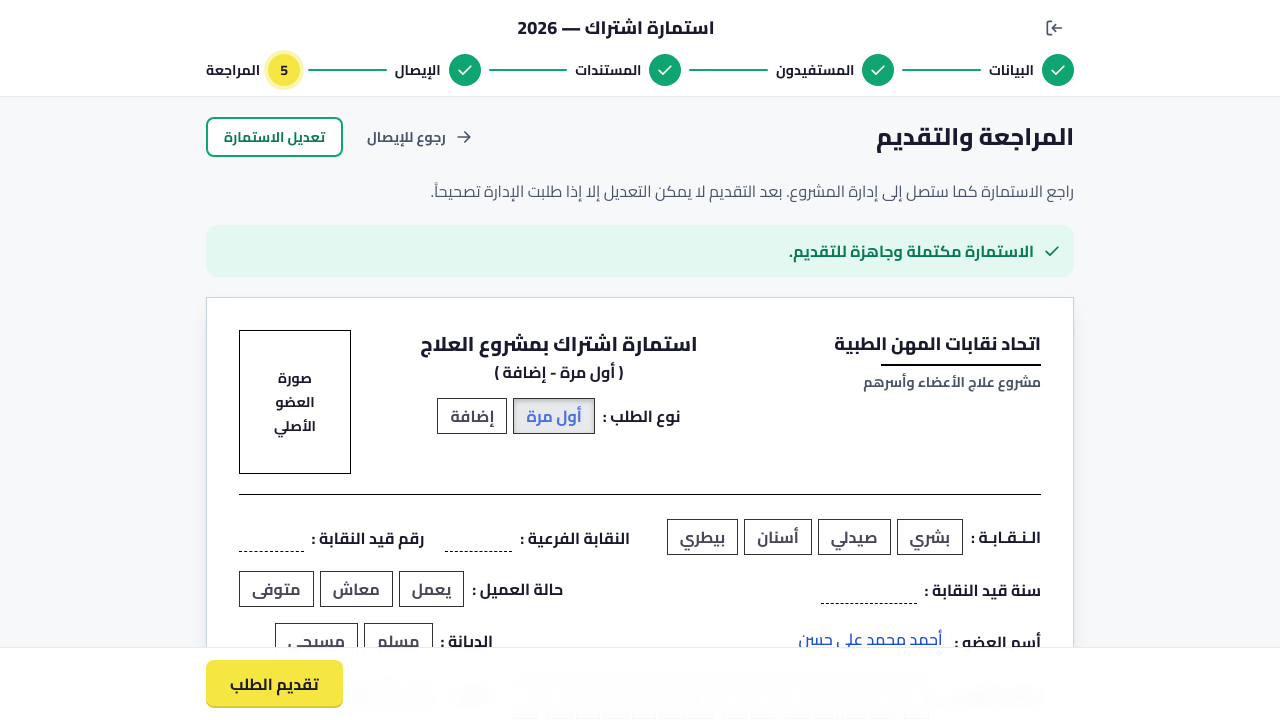
Scenario: ReviewPage (PROMPT.md §8, §9.7, §16.2) › submits and shows the reference number
The width and height of the screenshot is (1280, 720).
Expected: the heading "المراجعة والتقديم" is shown, [876, 121, 1074, 153]
Click the button "تقديم الطلب" at [274, 684], box [206, 660, 342, 708]
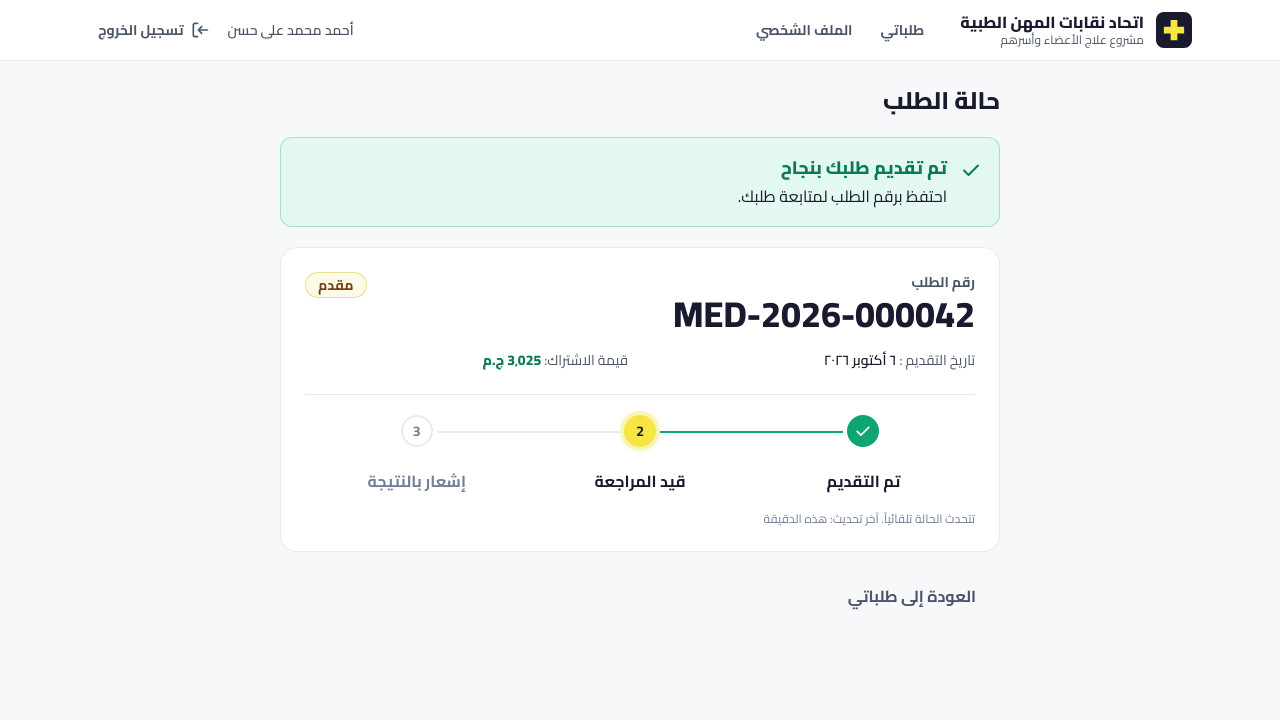
Now the text "تم تقديم طلبك بنجاح" is shown, box [781, 151, 947, 184]
Now the text "MED-2026-000042" is shown, box [673, 280, 975, 348]
